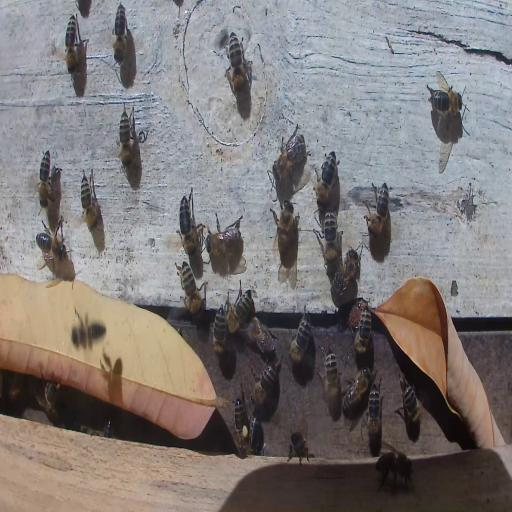bee: (375, 445, 415, 496), (274, 125, 306, 183), (225, 28, 248, 100), (204, 220, 241, 263), (177, 261, 205, 316), (365, 180, 391, 237), (332, 247, 361, 298), (79, 168, 101, 235), (320, 343, 342, 409), (288, 306, 312, 366), (246, 315, 277, 361), (315, 150, 338, 208), (398, 377, 423, 430), (272, 201, 294, 261), (322, 202, 340, 274), (69, 314, 107, 348), (232, 396, 252, 460), (224, 288, 252, 332), (178, 189, 196, 257), (343, 369, 372, 411), (352, 303, 373, 359), (427, 88, 467, 116), (36, 229, 67, 264), (367, 381, 381, 453), (37, 378, 59, 421), (253, 368, 278, 404), (113, 3, 127, 65), (64, 12, 78, 74), (118, 108, 132, 169), (38, 149, 52, 207), (288, 426, 309, 464), (211, 308, 226, 353), (248, 416, 264, 454), (6, 382, 22, 406), (101, 418, 113, 437)
